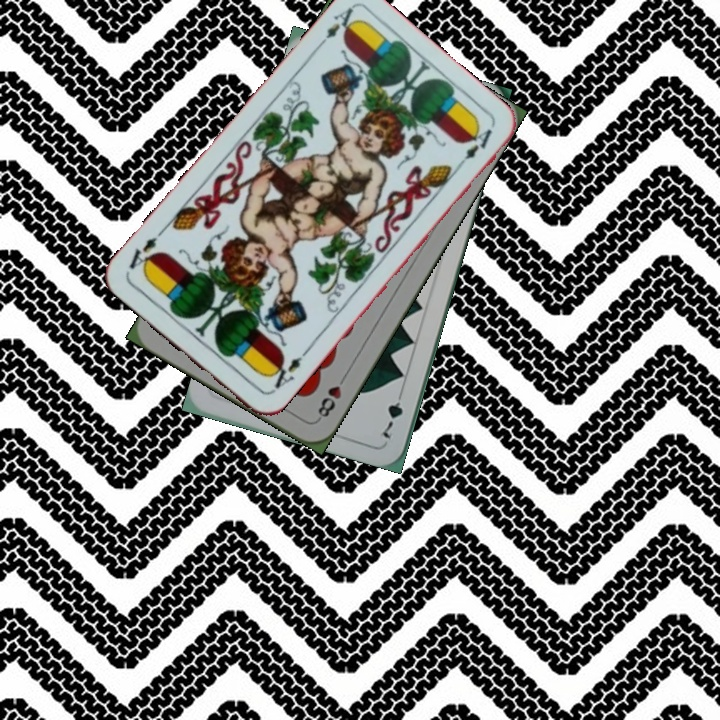EA: (311, 3, 361, 52), (265, 347, 310, 396)
G7: (377, 385, 407, 441)
H8: (313, 369, 350, 423)
